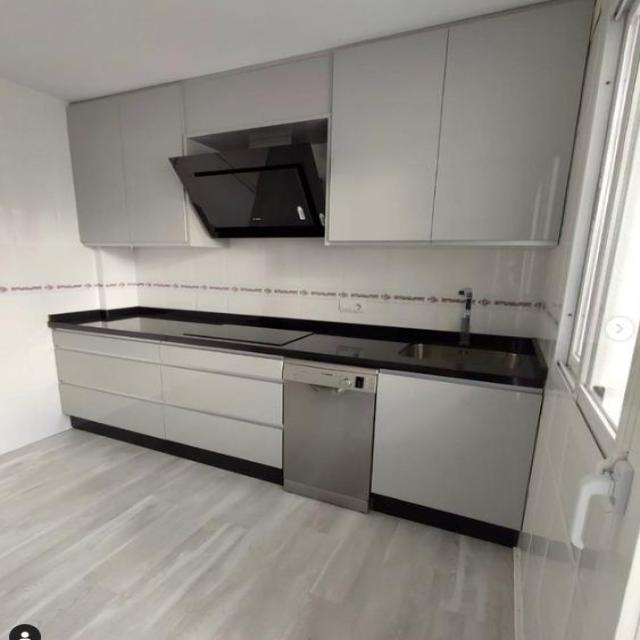dishwasher: (282, 354, 376, 514)
